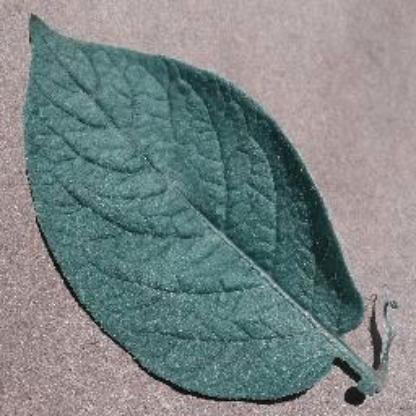Healthy-plant: (15, 10, 375, 404)
